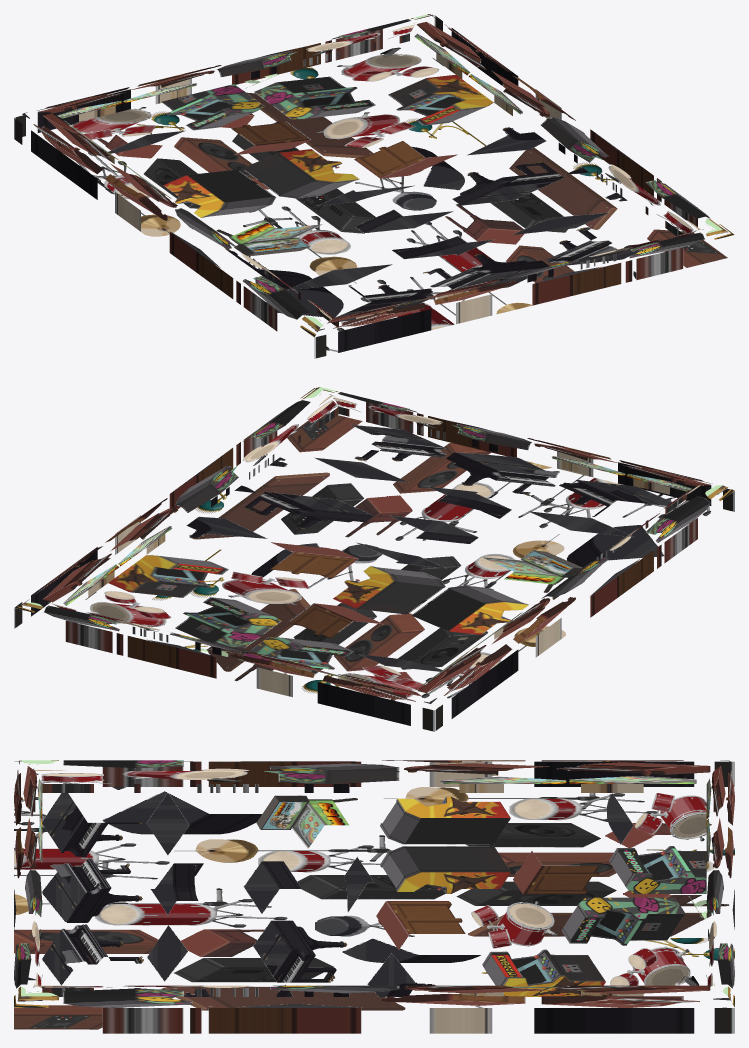
3 views of the same model, one above another, from view 1: azimuth 30°, elevation 25°; view 2: azimuth 150°, elevation 25°; view 3: azimuth 270°, elevation 25° (orthographic). The views are drawn at different scales.
Bounding box in the file's own units: 0.825 × 0.05 × 1.02.
